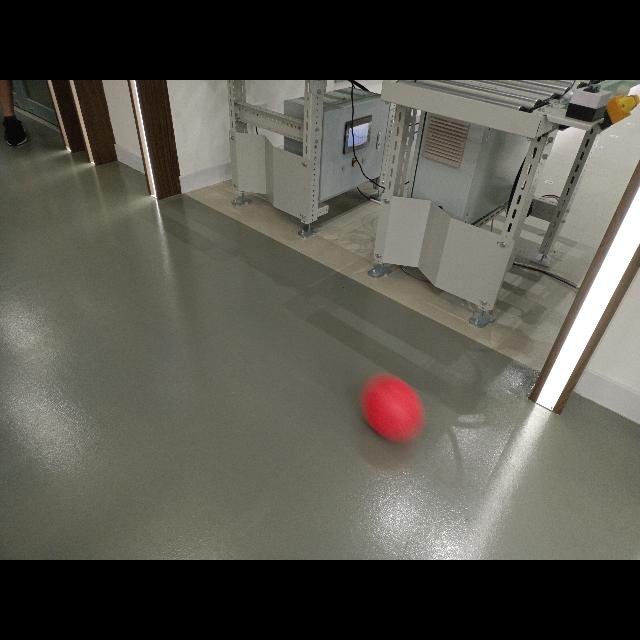R: (360, 373, 426, 443)
